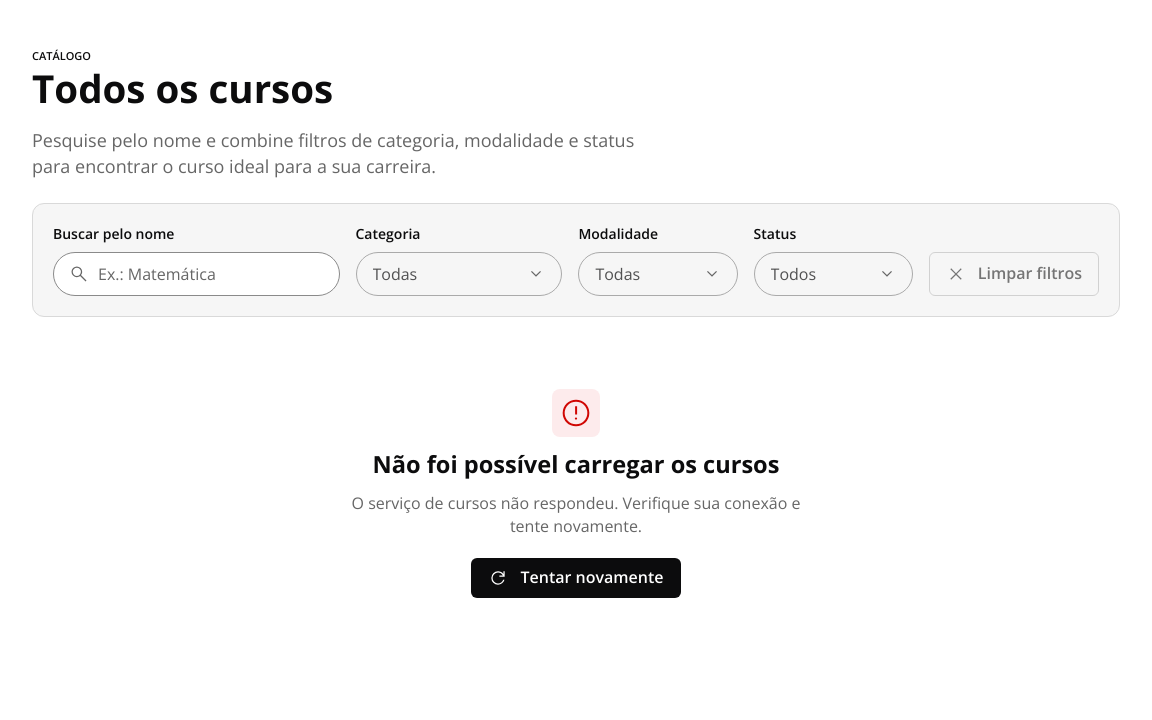
Test case: CatalogPage › mostra mensagem de erro e permite tentar novamente
The image size is (1152, 720).
Expected: the message shows "Não foi possível carregar os cursos", [372,448,779,480]
Click the button "Tentar novamente": click(576, 578) [472,558,680,598]
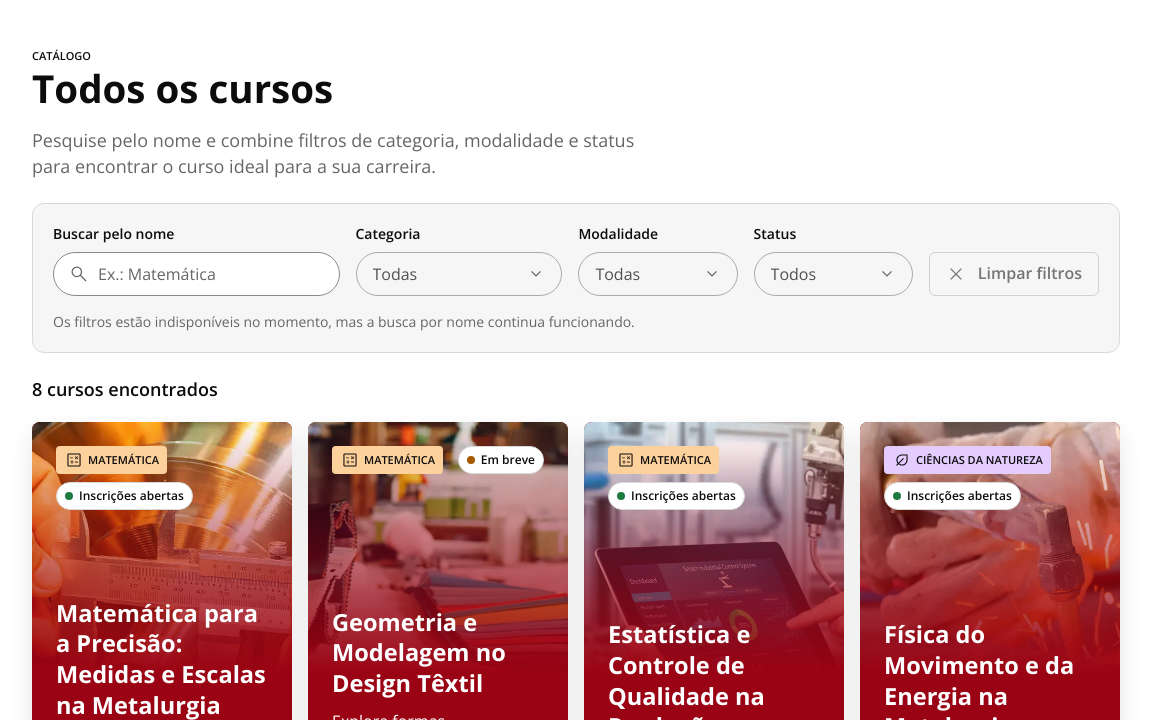
Expected: the message "8 cursos encontrados" is shown, [32,376,218,402]
